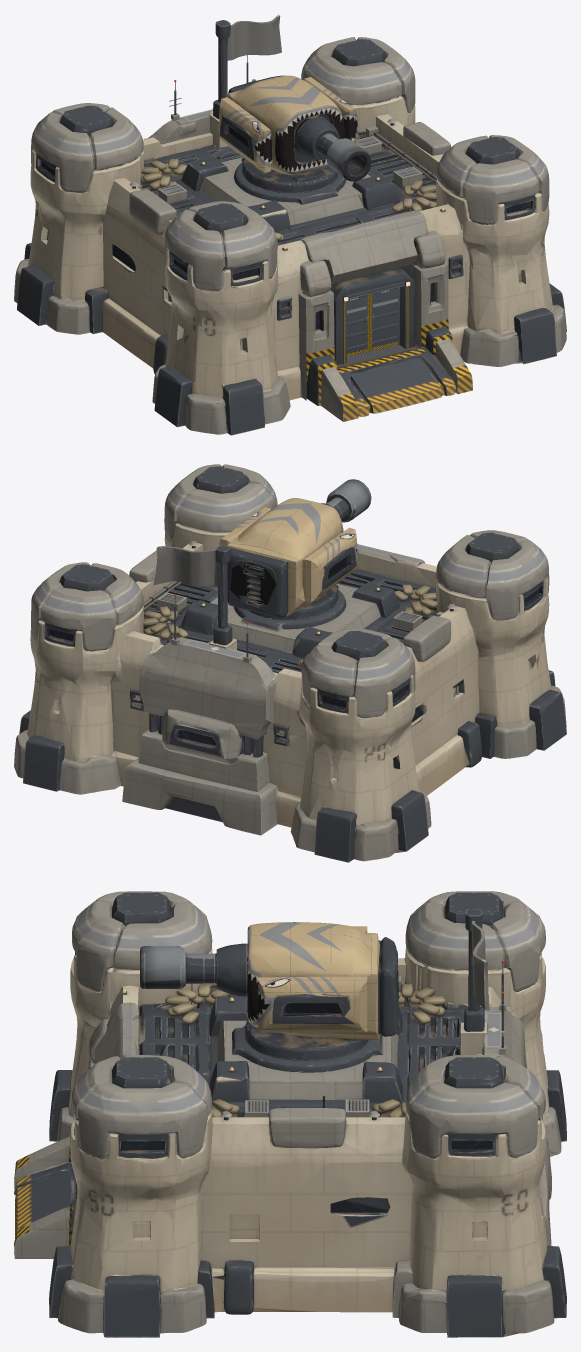
The model's file is Fort_Gate.glb.
3 renders of one model, top to bottom at view 1: azimuth 30°, elevation 25°; view 2: azimuth 150°, elevation 25°; view 3: azimuth 270°, elevation 25°, orthographic. The views are drawn at different scales.
Visible parts, largest first — view 1: FortBase, FortGunYaw, gate_hall, FortGunRecoil, gate_door_L, gate_door_R, FortGunPitch; view 2: FortBase, FortGunYaw, FortGunRecoil; view 3: FortBase, FortGunYaw, FortGunRecoil, FortGunPitch.
Boxes of the visible parts, <box> form: FortBase: <box>14,14,566,435</box>; FortGunYaw: <box>219,75,357,192</box>; gate_hall: <box>343,280,409,365</box>; FortGunRecoil: <box>317,133,371,181</box>; gate_door_L: <box>369,287,397,351</box>; gate_door_R: <box>347,294,369,356</box>; FortGunPitch: <box>296,117,339,159</box>; FortBase: <box>14,464,566,862</box>; FortGunYaw: <box>219,498,357,619</box>; FortGunRecoil: <box>326,479,371,522</box>; FortBase: <box>14,891,566,1337</box>; FortGunYaw: <box>245,922,398,1060</box>; FortGunRecoil: <box>140,946,214,989</box>; FortGunPitch: <box>214,943,246,996</box>.
Size of the model in its own units: 1.9 by 1.15 by 1.88.
5 materials, 4 textured.
